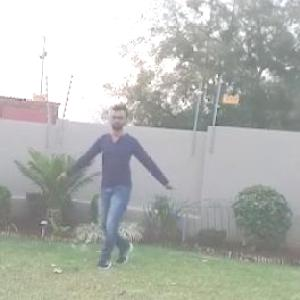land: (66, 112, 176, 258)
